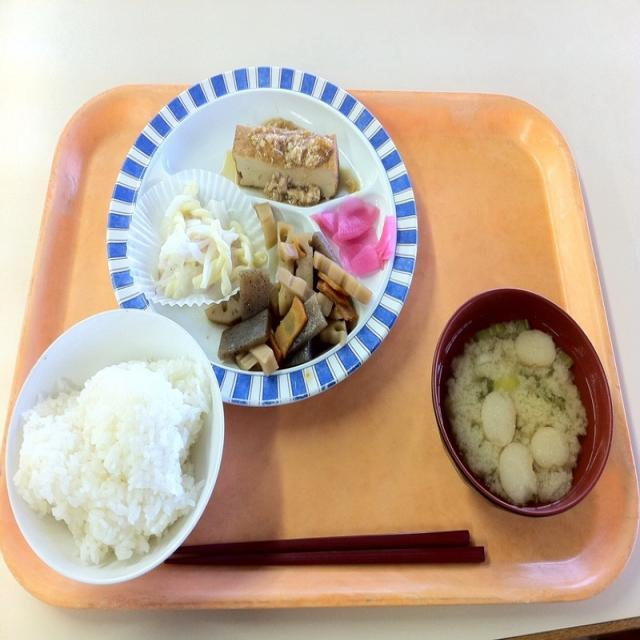Rice: (1, 303, 236, 593)
